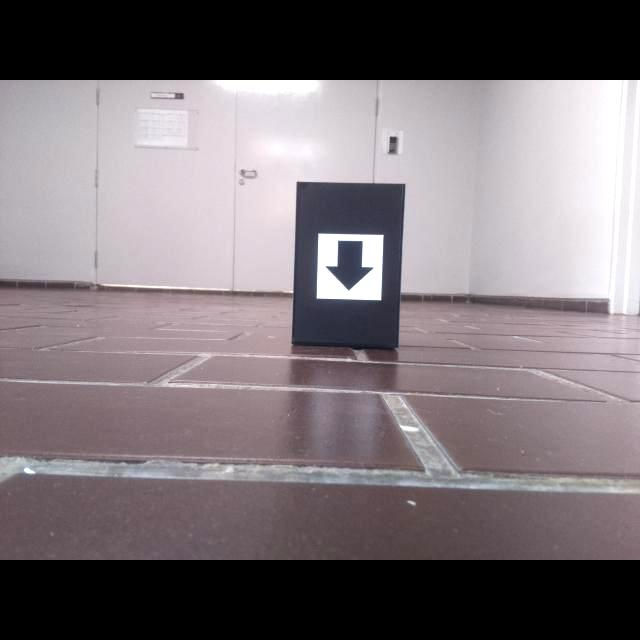DOWN: (322, 239, 377, 293)
